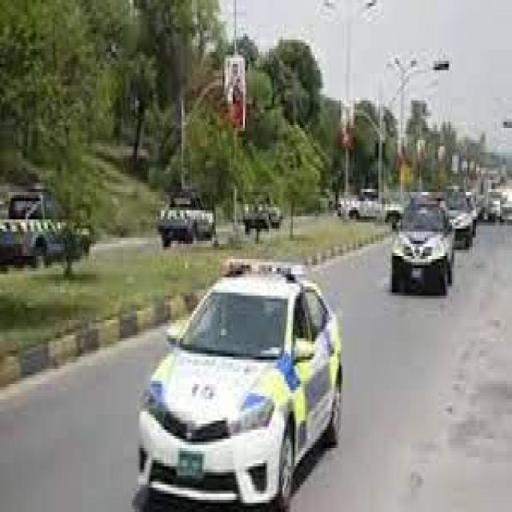Ambulance: (130, 253, 343, 512)
